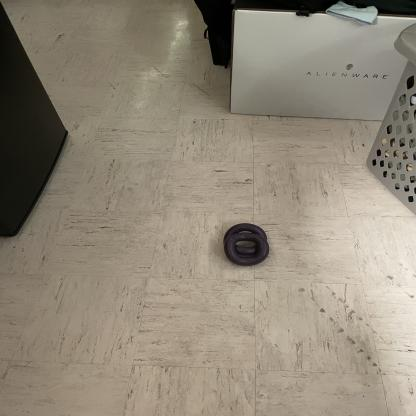ring: (223, 234, 270, 266), (223, 223, 267, 254)
